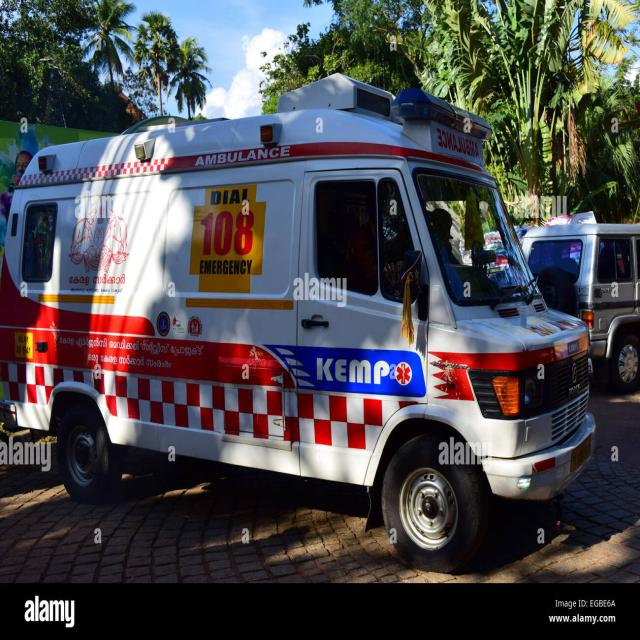ambulance: (0, 72, 595, 569)
